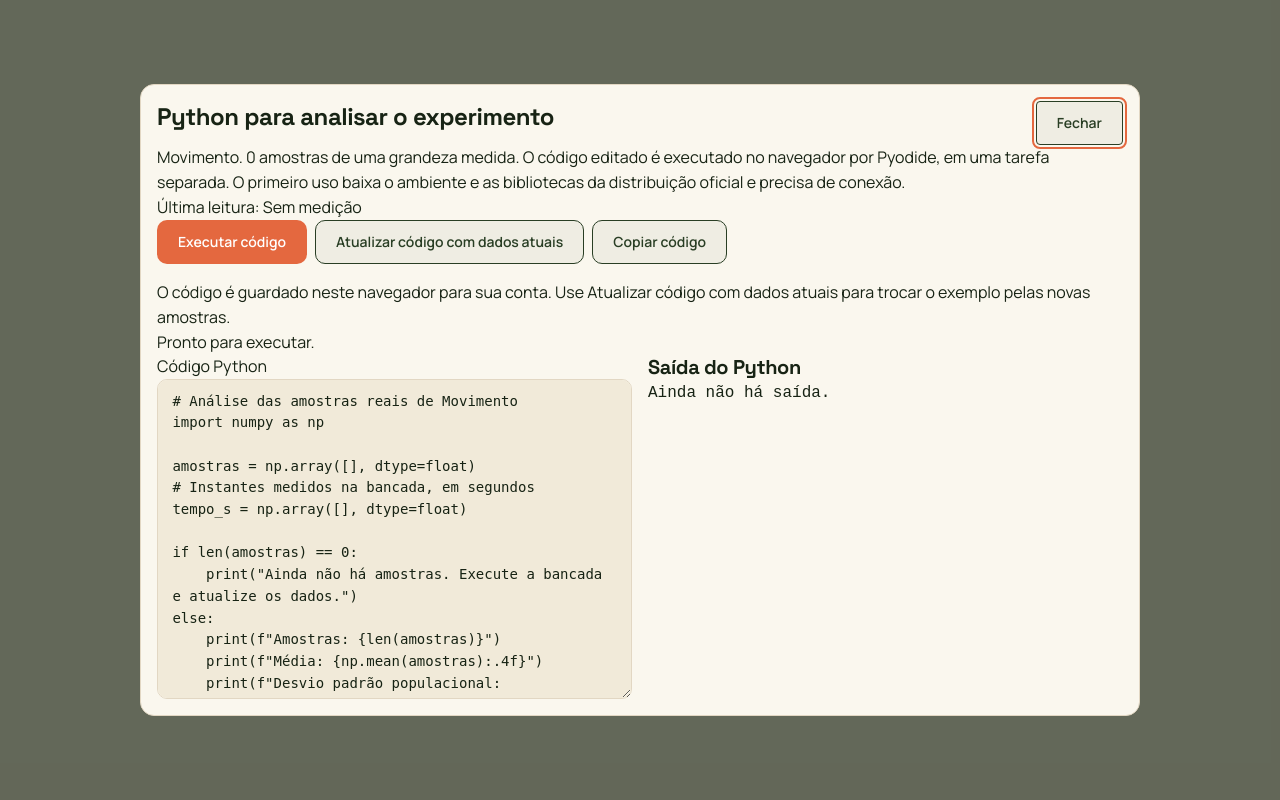
it: falha ao abrir o worker libera o editor e permite tentar novamente
Click the button "Executar código" at x=232, y=242, box [157,220,307,264]
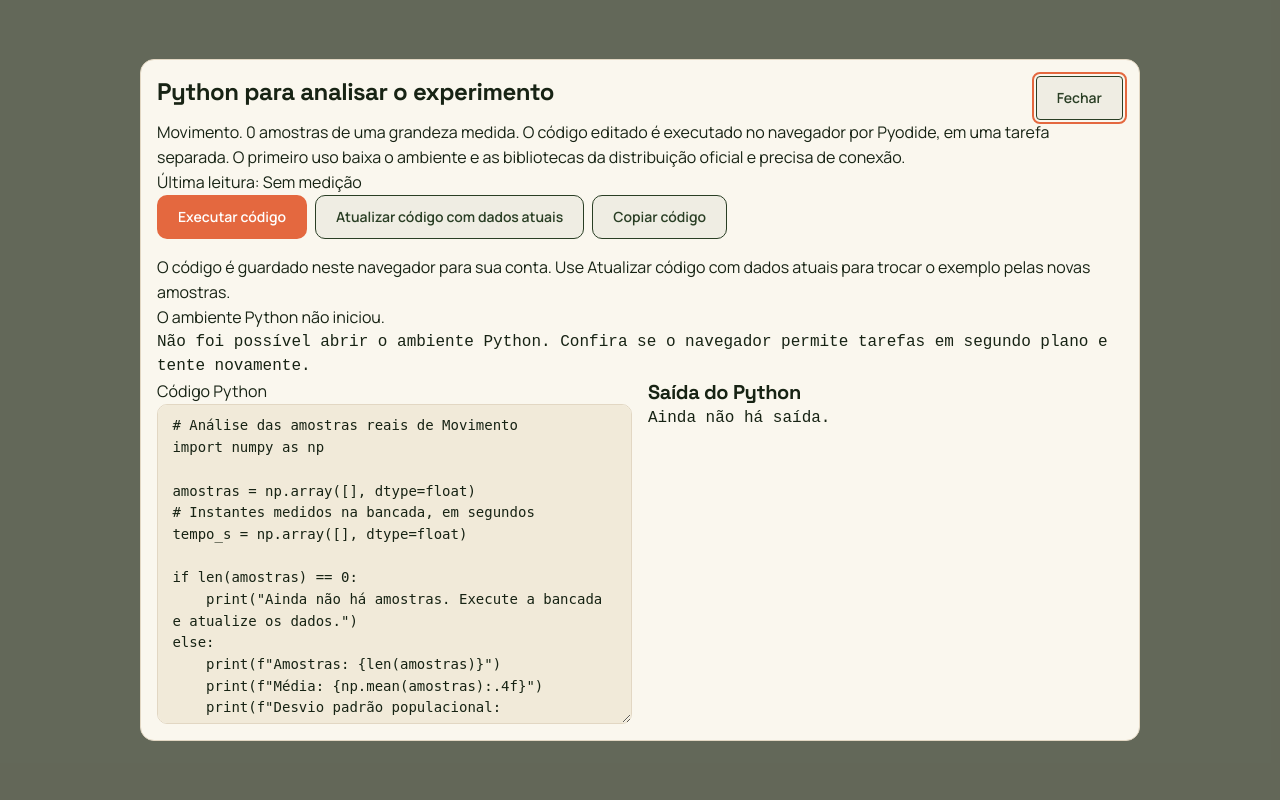
Check: the button "Executar código" is enabled, box [157,195,307,239]
Check: the 2nd message shows "Não foi possível abrir o ambiente Python", box [157,333,1117,376]
